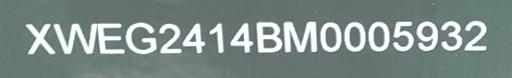letter: (52, 18, 98, 57), (280, 19, 320, 55), (124, 19, 158, 56), (22, 20, 56, 56), (252, 20, 284, 56), (180, 19, 210, 56), (96, 20, 126, 56), (156, 20, 184, 56), (461, 20, 491, 53), (316, 19, 344, 53), (227, 20, 255, 54), (413, 19, 441, 51), (390, 20, 416, 53), (438, 19, 464, 50), (366, 21, 390, 53), (344, 20, 366, 54), (206, 21, 226, 55)
